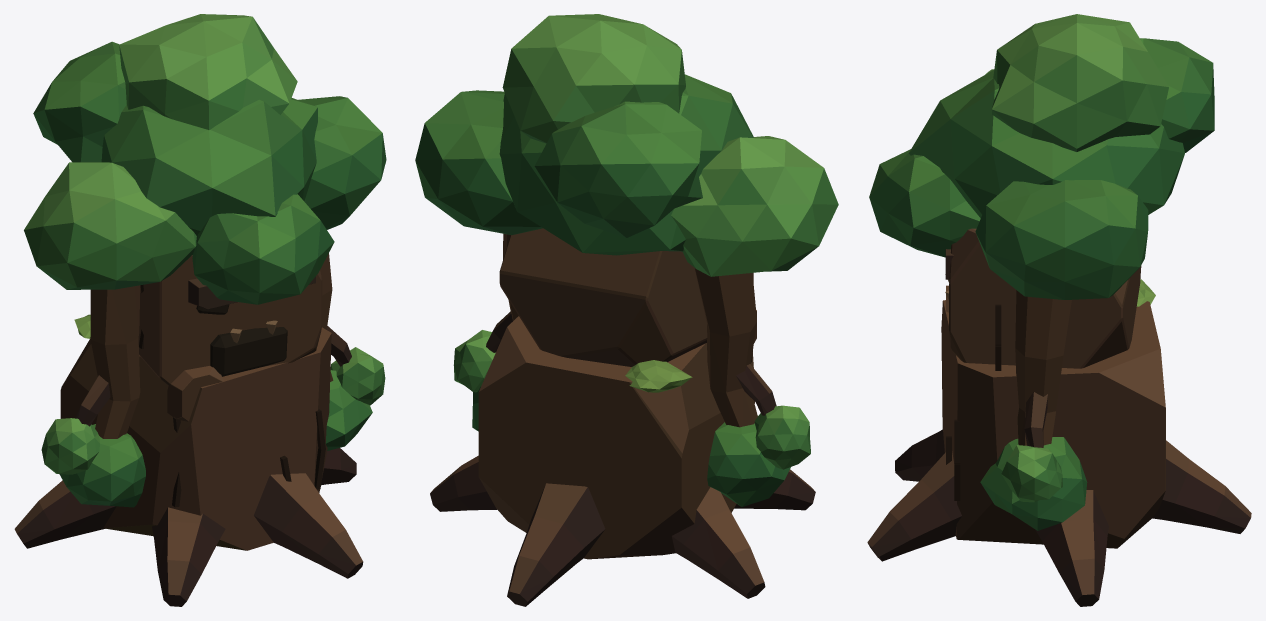
The model's file is chene.glb.
3 views of the same model, side by side, from view 1: azimuth 30°, elevation 25°; view 2: azimuth 150°, elevation 25°; view 3: azimuth 270°, elevation 25° (orthographic). The views are drawn at different scales.
Parts seen in each view (by area): view 1: cime, corps.005, bras_g.001, bras_d.001; view 2: corps.005, cime, bras_g.001, bras_d.001; view 3: cime, corps.005, bras_d.001.
Boxes of the visible parts, x1,y1,x2,y2 form: cime: [24, 14, 386, 304]; corps.005: [14, 255, 363, 606]; bras_g.001: [41, 285, 145, 507]; bras_d.001: [320, 253, 385, 450]; corps.005: [430, 228, 815, 606]; cime: [415, 14, 838, 276]; bras_g.001: [694, 268, 810, 506]; bras_d.001: [453, 233, 518, 431]; cime: [869, 14, 1214, 299]; corps.005: [867, 228, 1251, 606]; bras_d.001: [980, 290, 1087, 530].
Size of the model in its own units: 6.84 by 9.32 by 6.36.
